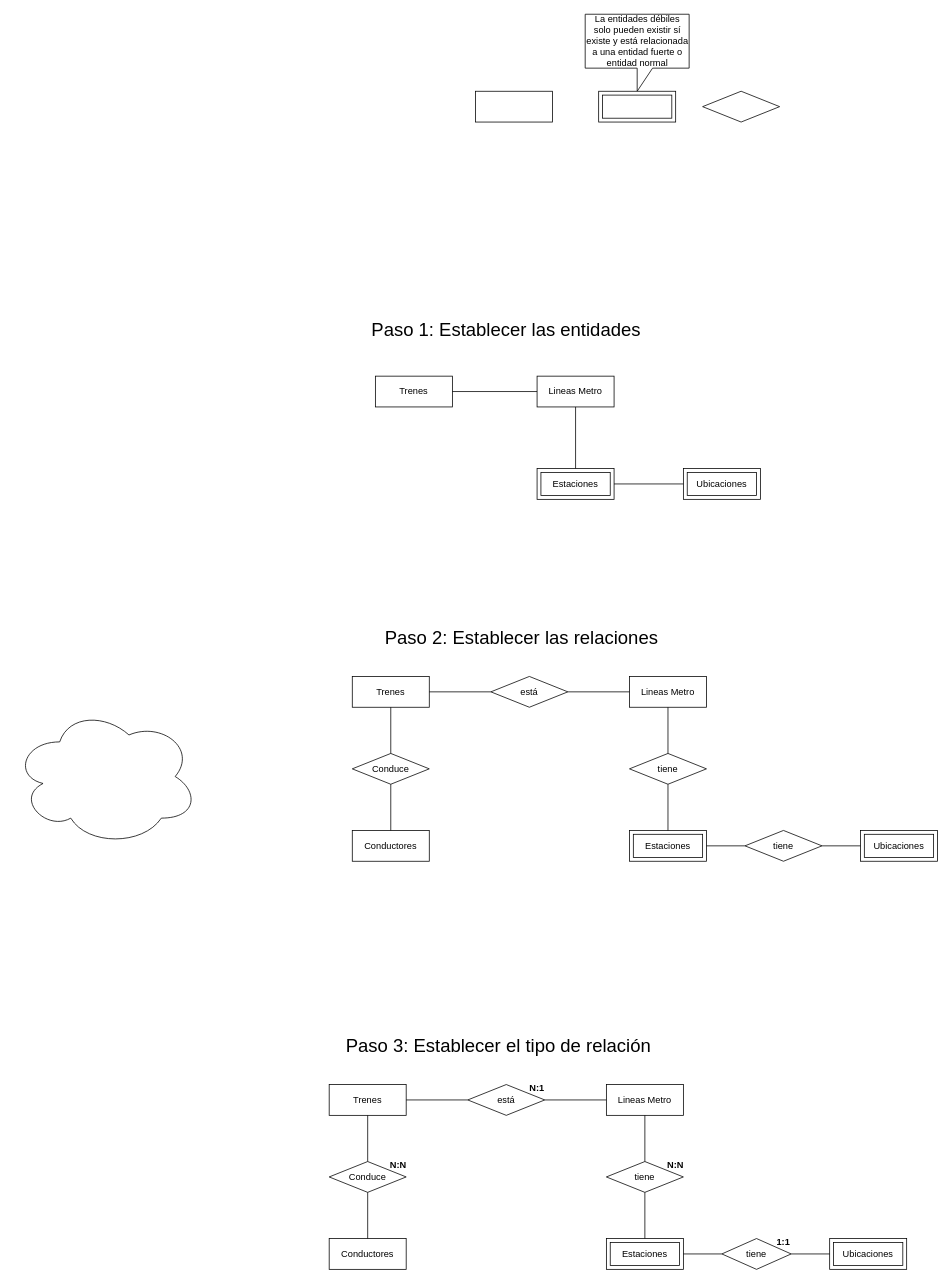
This 951x1283 diagram has some shape labels left out. Each missing label, with the centre of its shape:
"Entidad" goes at pixel 513 106.
"Entidades Debiles" goes at pixel 637 106.
"Los conductores están en los trenes, es un ejemplo, reto, relacionarla" goes at pixel 105 776.
"Relaciones" goes at pixel 741 106.
